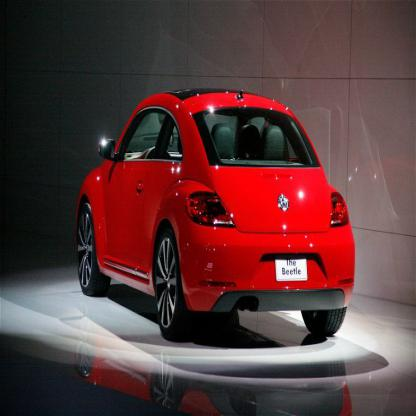Vehicle: (73, 85, 359, 347)
